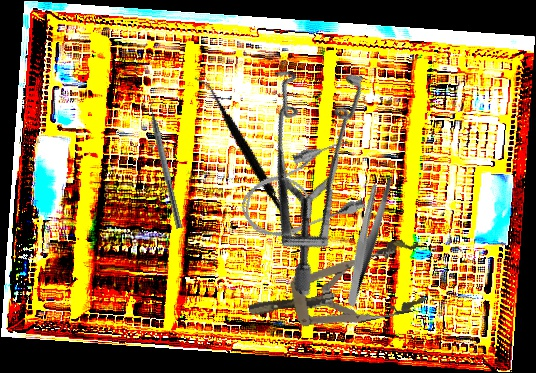Cannula: (230, 133, 374, 252)
Chopper: (143, 94, 192, 229)
Dressing Forceps: (315, 172, 419, 308)
Spatula Surgical: (151, 74, 355, 244)
Speculum: (177, 33, 436, 299), (241, 236, 432, 345)
